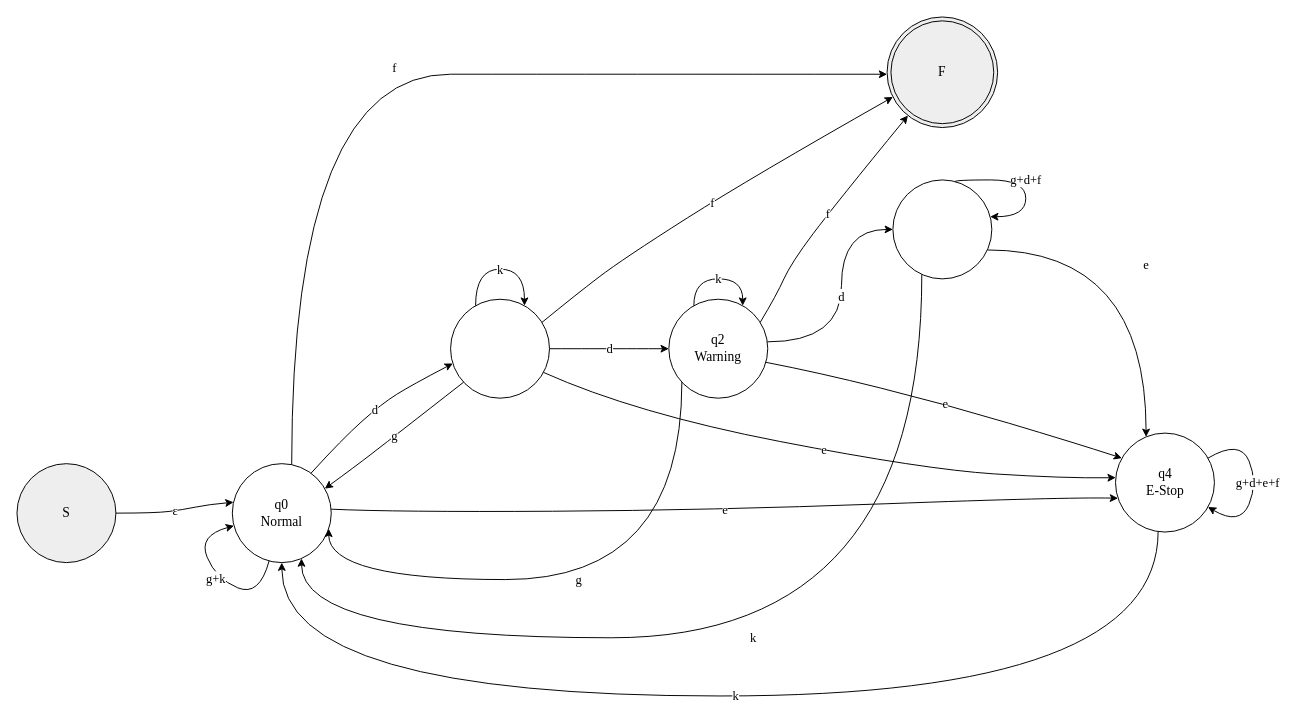
The diagram is 1297 pixels wide and 721 high, and some of its shapes have lost their labels. The shapes that lost their labels are listed below. From the top down, each one's box as (x1, y1, x2, y2) in pixels, then its label:
(892, 179, 992, 279): q3 Halted
(450, 298, 550, 398): q1 Defect1
